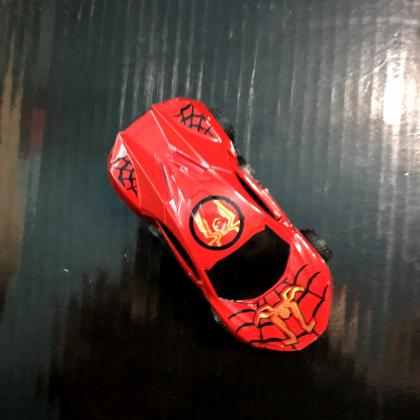Car: (106, 98, 333, 354)
